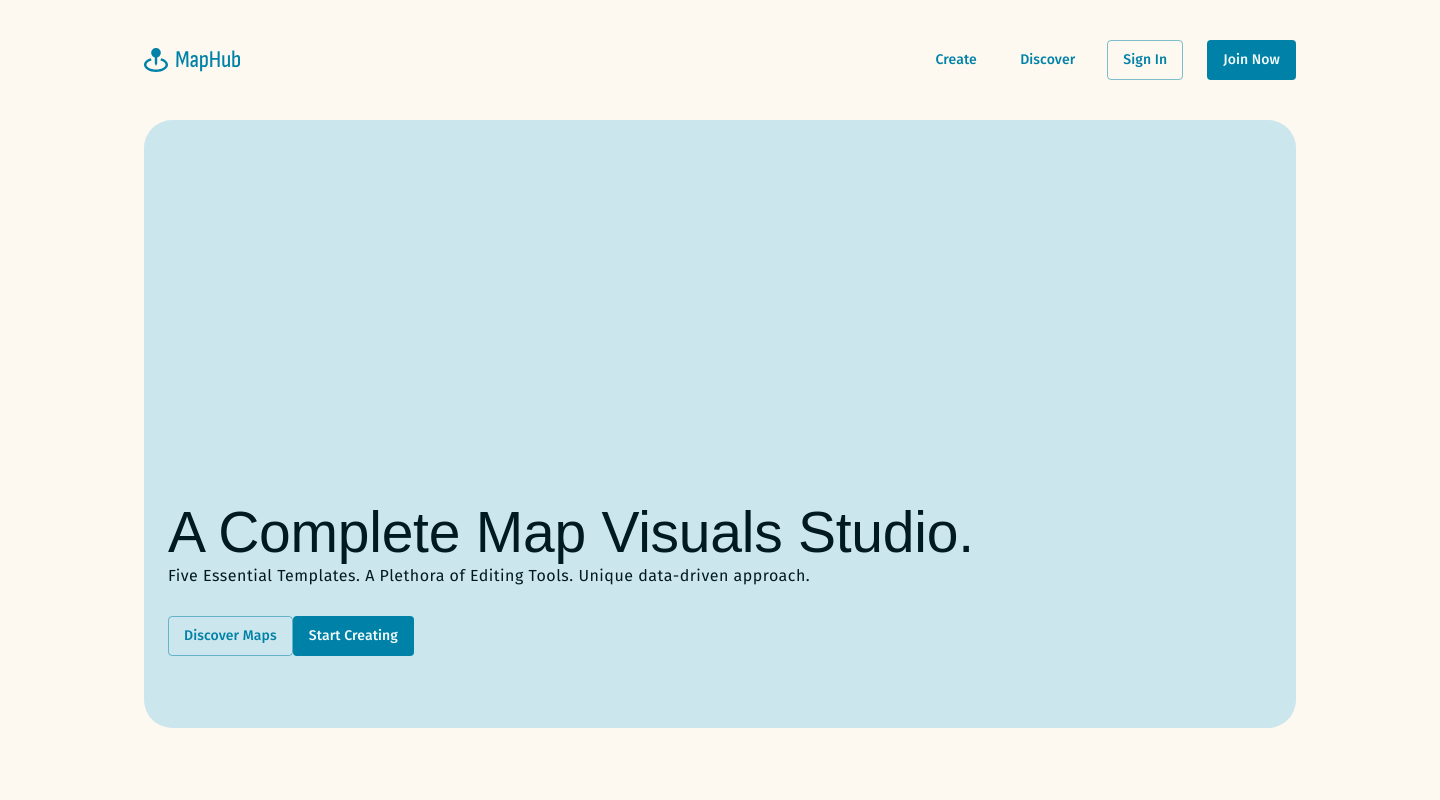
Test case: I can reach discover › should not fail to load
The image size is (1440, 800).
Click the button "Discover Maps": (231, 636) [168,616,293,656]
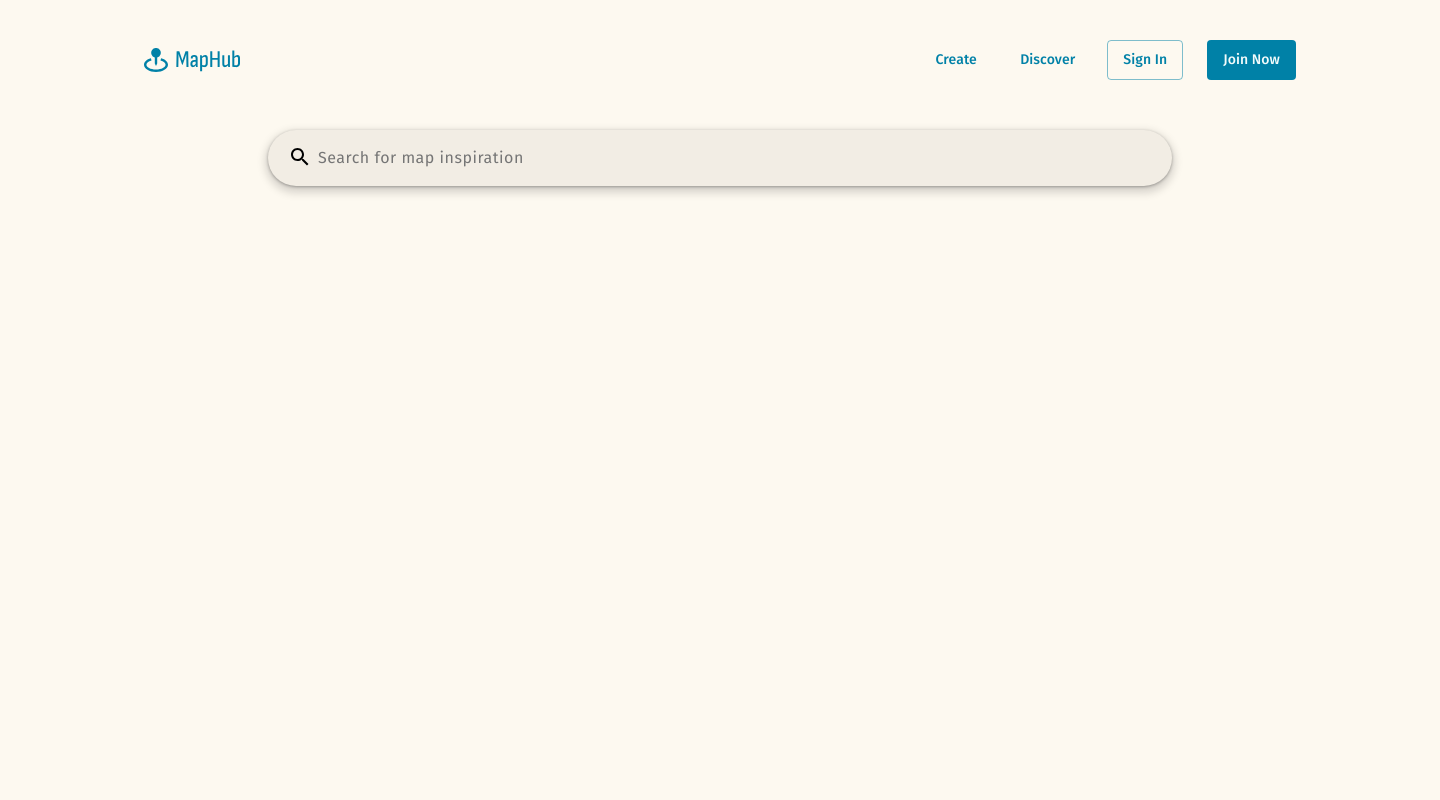
Check: the field with placeholder "Search for map inspiration" is shown, box [316,145,1152,171]
